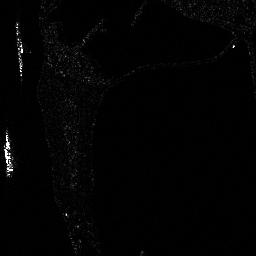ship: (12, 23, 26, 77), (3, 130, 14, 177)
